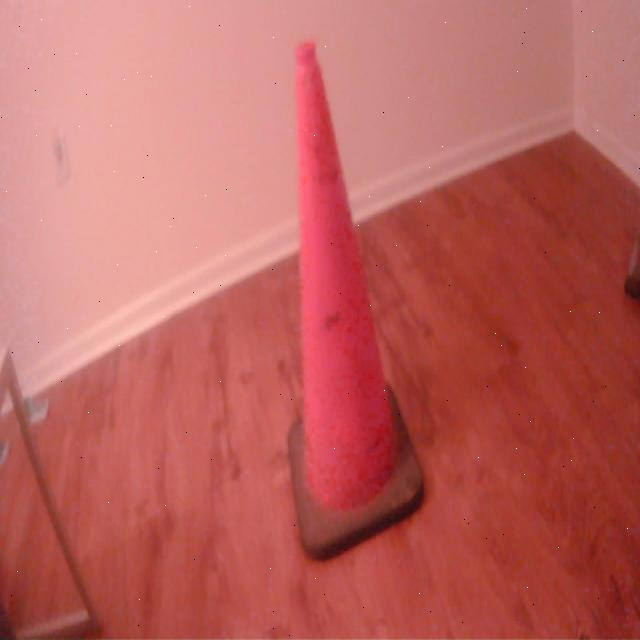traffic cone: (286, 33, 430, 565)
